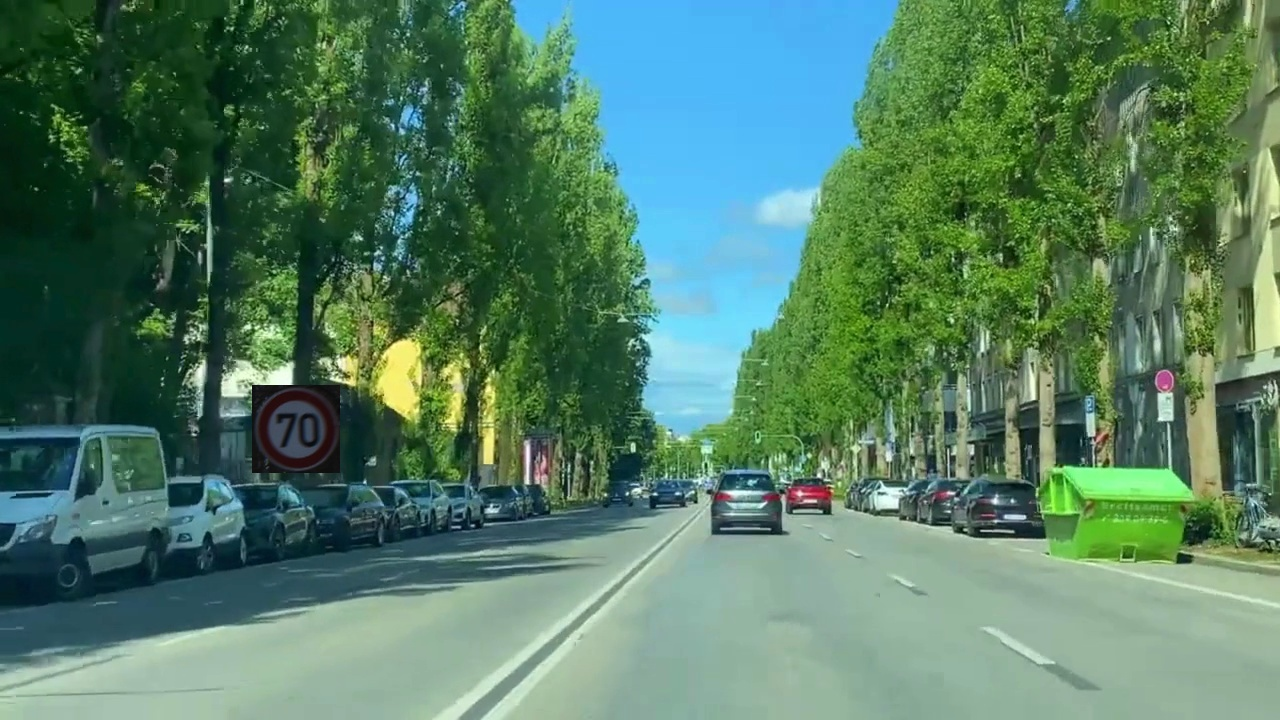Speed 70: (252, 385, 340, 473)
